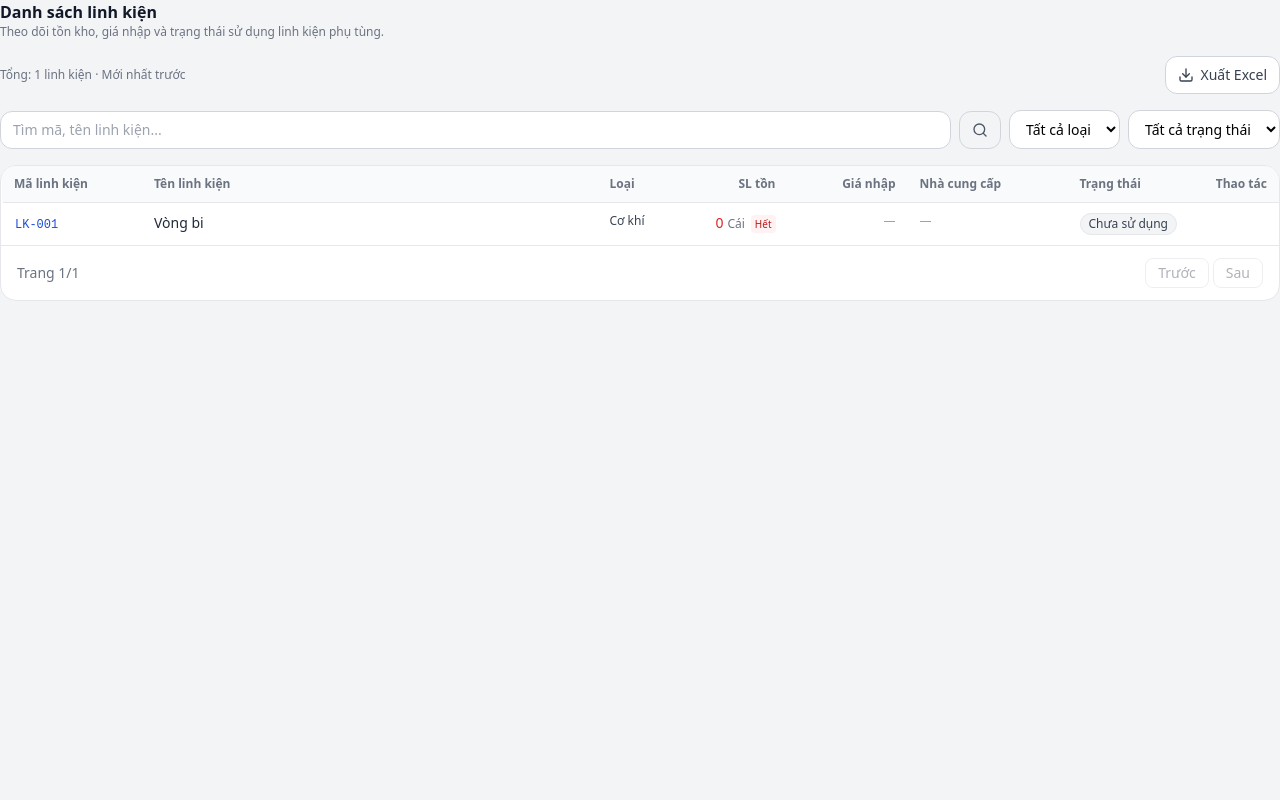
Test: SparePartList (C1) › opens the detail modal for a part with null giaNhap/nhaCungCap/ngayMua without crashing
Click the text "Vòng bi".
click(179, 222)  # box [154, 213, 204, 232]
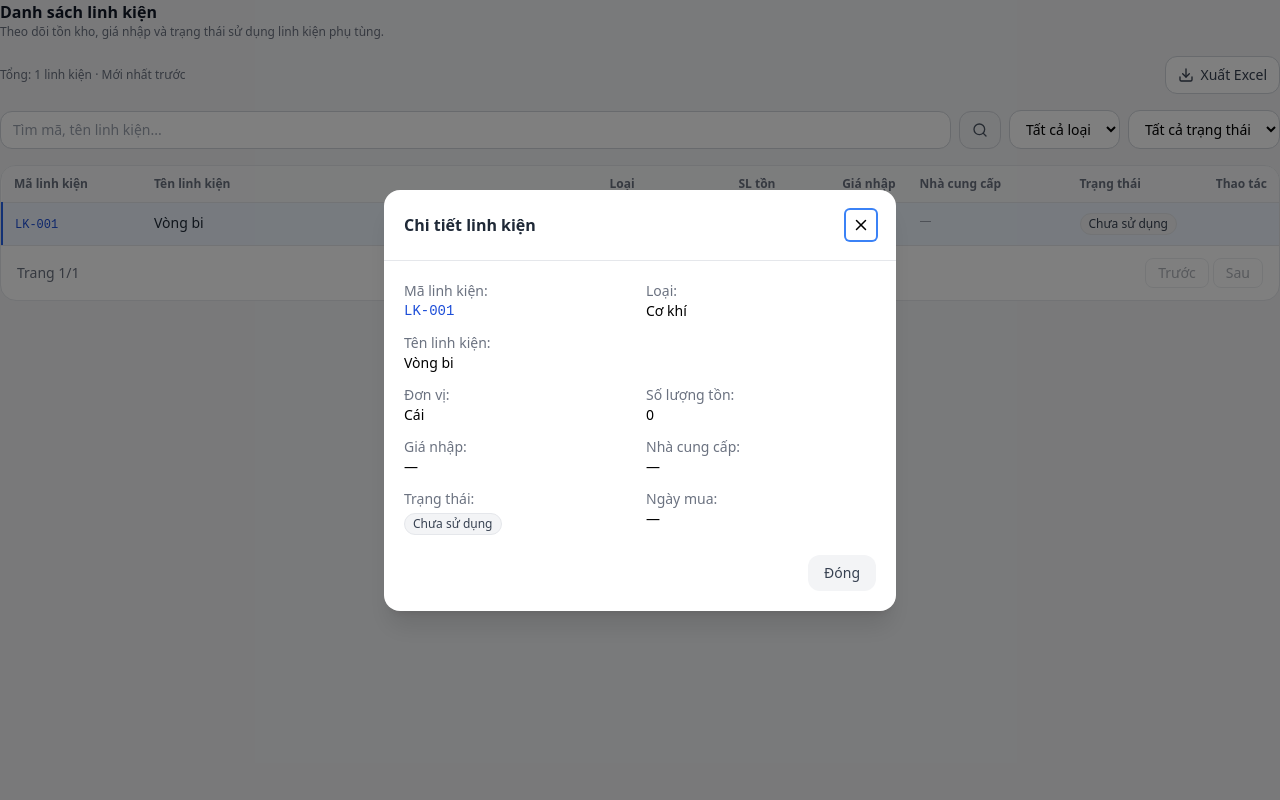
Expected: the heading "Chi tiết linh kiện" is shown, [404, 212, 536, 236]
Expected: the text "—" below "Ngày mua:" is shown, [646, 508, 660, 528]
